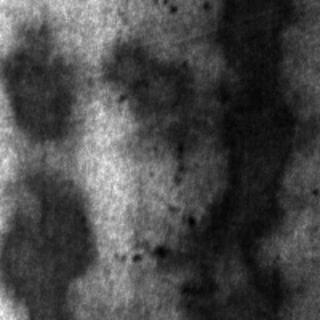patches: (206, 0, 314, 256), (159, 202, 285, 316), (0, 168, 94, 316), (99, 40, 203, 170), (1, 19, 74, 139)
